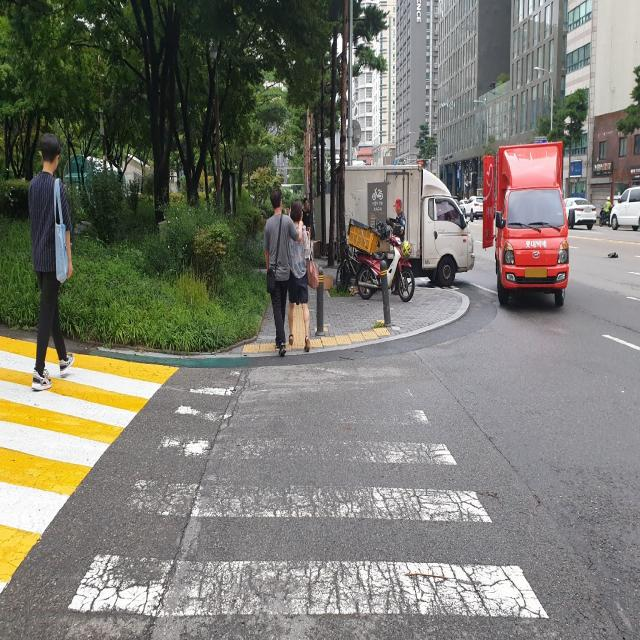횡단보도: (64, 362, 552, 624)
